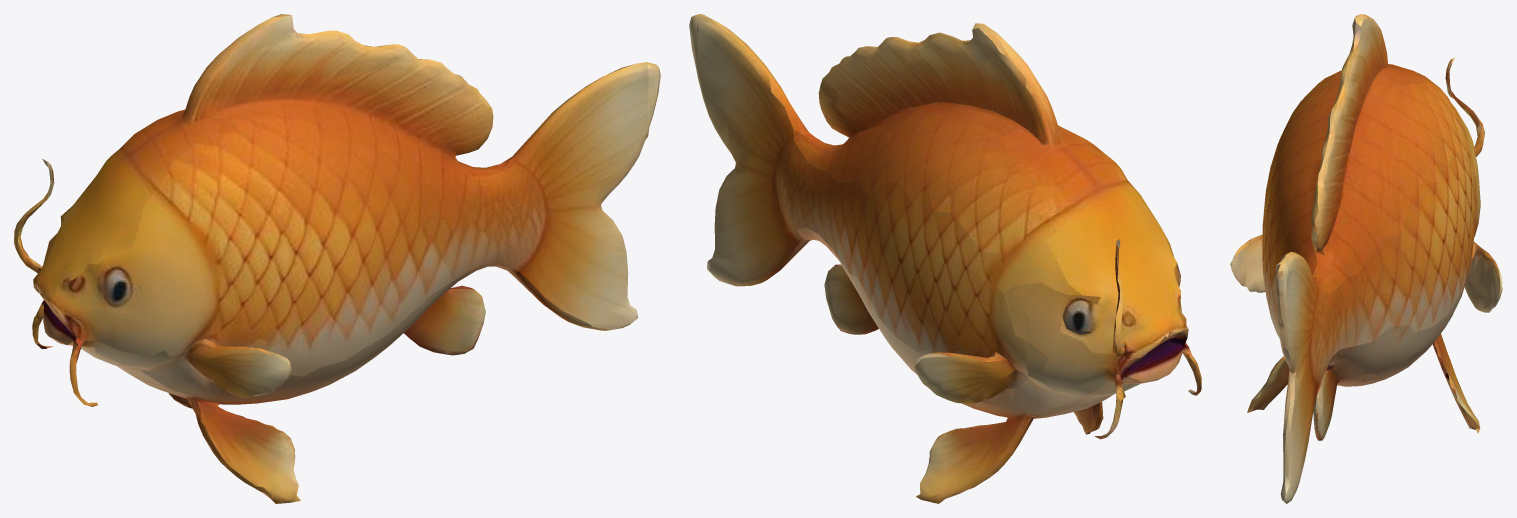
The model's file is fish_king.glb.
3 renders of one model, left to right at view 1: azimuth 30°, elevation 25°; view 2: azimuth 150°, elevation 25°; view 3: azimuth 270°, elevation 25°, orthographic. The views are drawn at different scales.
Visible parts, largest first — view 1: item_fish_king; view 2: item_fish_king; view 3: item_fish_king.
Boxes of the visible parts, box(x1,y1,x2,y2) form: item_fish_king: box(14, 14, 660, 503); item_fish_king: box(689, 14, 1201, 503); item_fish_king: box(1230, 14, 1502, 503).
Size of the model in its own units: 1 by 0.7502 by 0.4423.
1 material, 1 textured.
